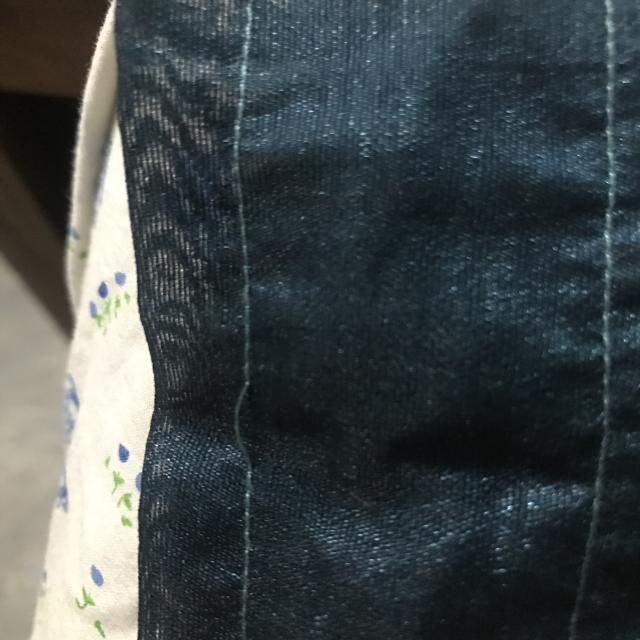skip: (226, 362, 284, 484)
